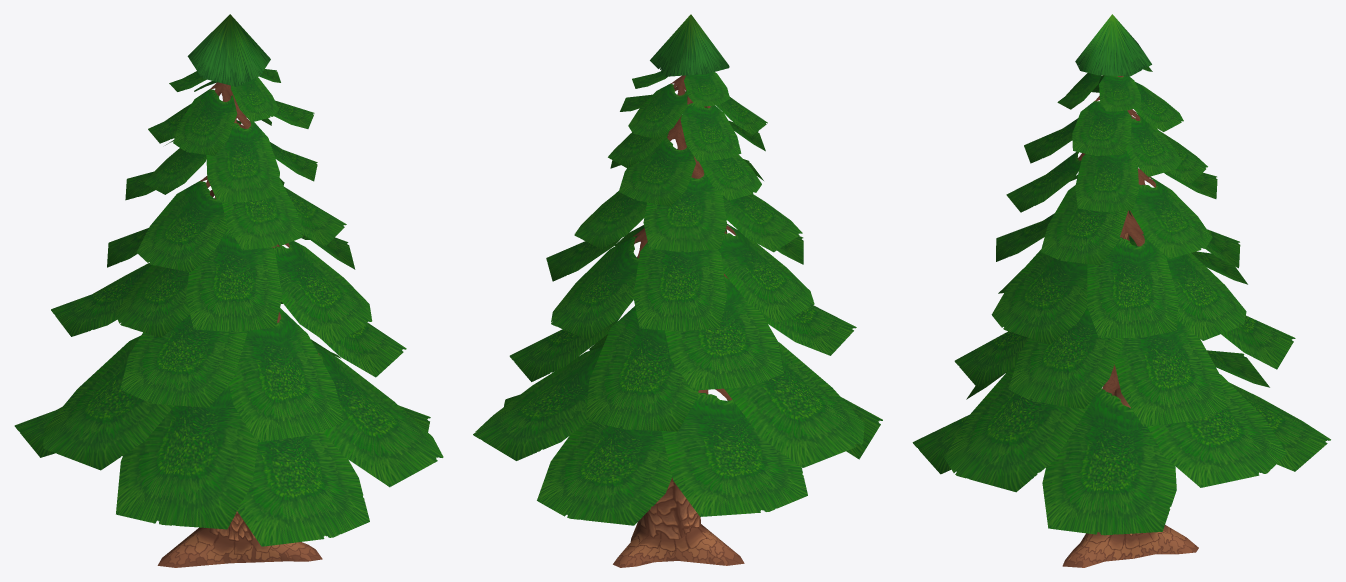
File: PineTree.fbx
The picture shows the model from 3 angles, left to right: view 1: azimuth 30°, elevation 25°; view 2: azimuth 150°, elevation 25°; view 3: azimuth 270°, elevation 25°; orthographic projection. The views are drawn at different scales.
Parts seen in each view (by area): view 1: Tree01; view 2: Tree01; view 3: Tree01.
Part boxes in pixels (x1,y1,x2,y2): Tree01: (14,14,443,567); Tree01: (473,14,882,567); Tree01: (912,14,1330,567).
Bounding box in the file's own units: 224 × 307 × 224.
